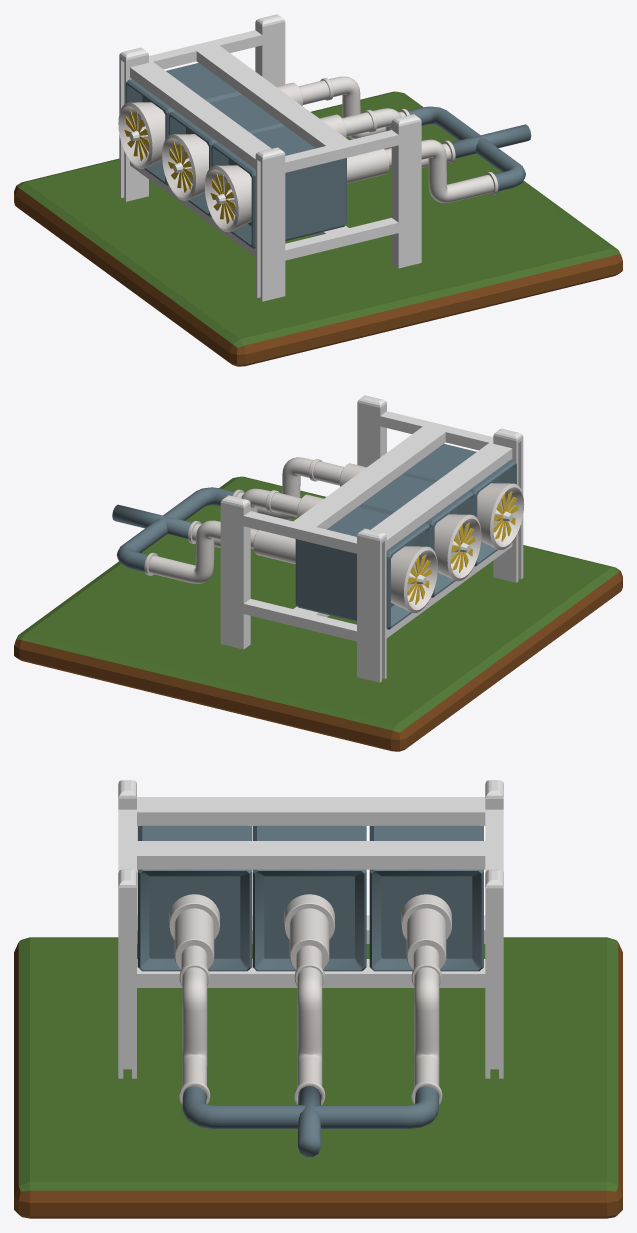
File: air_contactor_group.fbx
The picture shows the model from 3 angles, top to bottom: view 1: azimuth 30°, elevation 25°; view 2: azimuth 150°, elevation 25°; view 3: azimuth 270°, elevation 25°; orthographic projection. The views are drawn at different scales.
Visible parts, largest first — view 1: WindTurbine_Lg.003, Contactor_Rig, Connection_Pipes, Contactor Housing.004, Connecting_Pipe, Contactor Housing.002, Contactor Housing, Fan_Housing.002, Fan_Housing.001, Fan_Housing, Fan_Blades, Fan_Blades.002 (+1 smaller); view 2: WindTurbine_Lg.003, Contactor_Rig, Connection_Pipes, Contactor Housing.002, Connecting_Pipe, Contactor Housing, Contactor Housing.004, Fan_Housing.001, Fan_Housing, Fan_Housing.002, Fan_Blades.001, Fan_Blades.002 (+1 smaller); view 3: WindTurbine_Lg.003, Contactor_Rig, Connection_Pipes, Contactor Housing.002, Contactor Housing, Contactor Housing.004, Connecting_Pipe.
Boxes of the visible parts, x1,y1,x2,y2 form: WindTurbine_Lg.003: (14, 91, 622, 366); Contactor_Rig: (119, 14, 421, 301); Connection_Pipes: (276, 76, 498, 202); Contactor Housing.004: (211, 126, 346, 248); Connecting_Pipe: (408, 106, 531, 191); Contactor Housing.002: (125, 63, 241, 185); Contactor Housing: (169, 94, 284, 217); Fan_Housing.002: (204, 165, 251, 232); Fan_Housing.001: (118, 102, 165, 169); Fan_Housing: (162, 134, 208, 200); Fan_Blades: (168, 142, 192, 192); Fan_Blades.002: (210, 173, 235, 223); WindTurbine_Lg.003: (14, 476, 622, 751); Contactor_Rig: (220, 395, 523, 682); Connection_Pipes: (144, 457, 366, 583); Contactor Housing.002: (295, 507, 430, 629); Connecting_Pipe: (112, 487, 234, 572); Contactor Housing: (358, 475, 474, 597); Contactor Housing.004: (402, 444, 516, 566); Fan_Housing.001: (391, 546, 437, 613); Fan_Housing: (434, 514, 481, 581); Fan_Housing.002: (477, 483, 524, 549); Fan_Blades.001: (407, 554, 431, 604); Fan_Blades.002: (493, 491, 518, 541); WindTurbine_Lg.003: (14, 937, 622, 1218); Contactor_Rig: (118, 780, 503, 1078); Connection_Pipes: (169, 894, 451, 1104); Contactor Housing.002: (369, 825, 483, 971); Contactor Housing: (252, 825, 366, 971); Contactor Housing.004: (137, 825, 251, 971); Connecting_Pipe: (182, 1086, 438, 1156).
Size of the model in its own units: 160 by 64.49 by 156.
